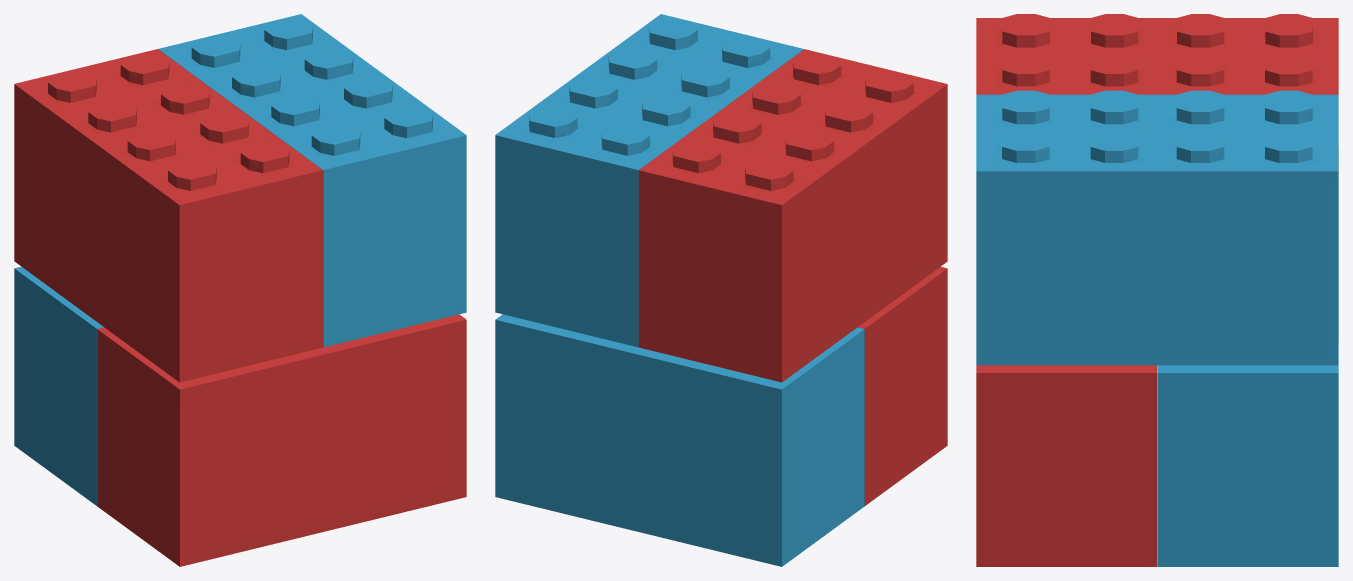
File: InteractableBlock2x2.fbx
3 renders of one model, left to right at view 1: azimuth 30°, elevation 25°; view 2: azimuth 150°, elevation 25°; view 3: azimuth 270°, elevation 25°, orthographic. The views are drawn at different scales.
Parts seen in each view (by area): view 1: Cube.032; view 2: Cube.032; view 3: Cube.032.
Part boxes in pixels (box(x1,y1,x2,y2)): Cube.032: box(14, 14, 466, 566); Cube.032: box(495, 14, 947, 566); Cube.032: box(976, 14, 1338, 566).
Size of the model in its own units: 305 by 378 by 304.
